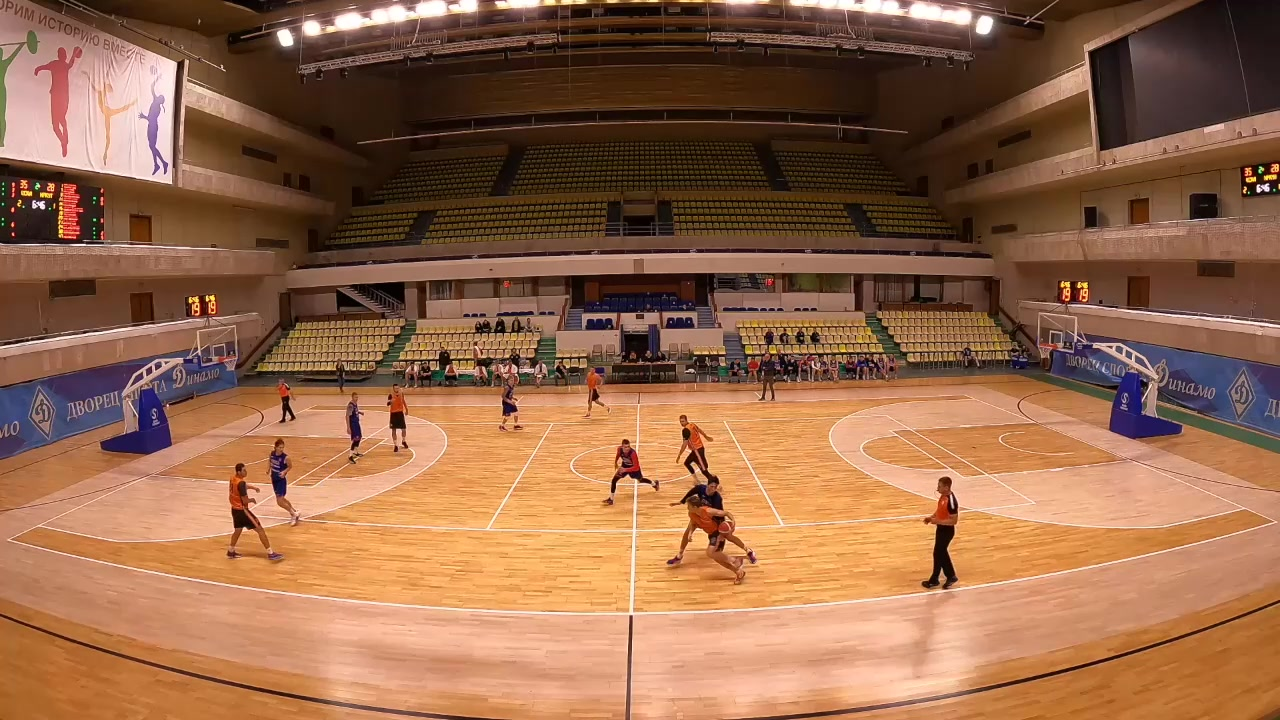basketball: (503, 528, 547, 551)
